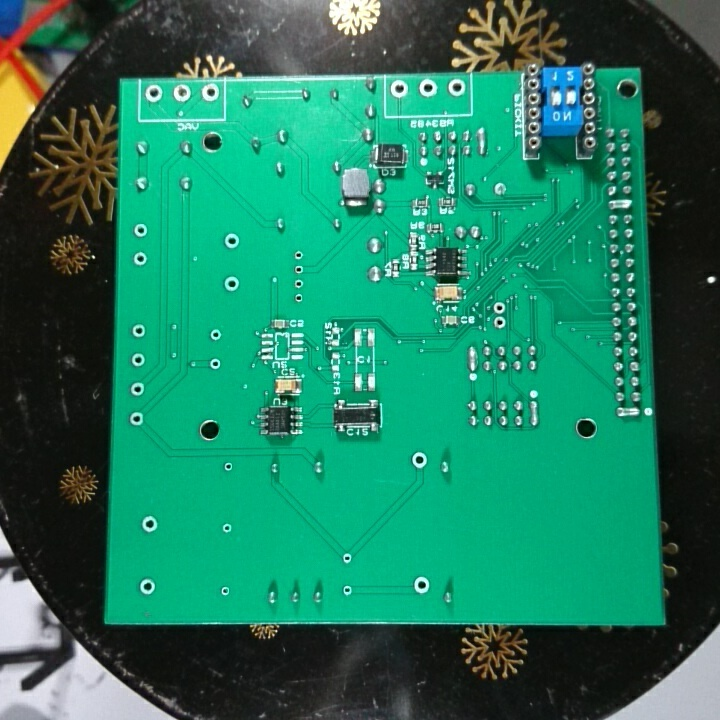F: (169, 81, 194, 105), (222, 272, 244, 297), (221, 229, 242, 255), (409, 447, 429, 473), (444, 76, 467, 98), (143, 83, 164, 107), (410, 574, 432, 596), (388, 78, 409, 101), (136, 578, 159, 599), (199, 82, 221, 103), (416, 78, 439, 98), (128, 320, 149, 341), (131, 219, 152, 240), (139, 515, 161, 535), (126, 410, 148, 430), (127, 379, 150, 398), (128, 350, 149, 370), (130, 249, 150, 269), (491, 178, 510, 198), (208, 325, 224, 346), (491, 315, 509, 332), (490, 299, 508, 315), (290, 275, 308, 291), (207, 356, 223, 373), (291, 290, 307, 307), (219, 521, 237, 536), (340, 582, 356, 598), (221, 459, 237, 475), (291, 247, 307, 263), (340, 551, 355, 566), (219, 583, 233, 599), (290, 262, 306, 276)
P: (615, 404, 643, 420), (527, 399, 541, 430), (476, 126, 488, 158), (466, 344, 479, 373), (606, 198, 635, 210)
